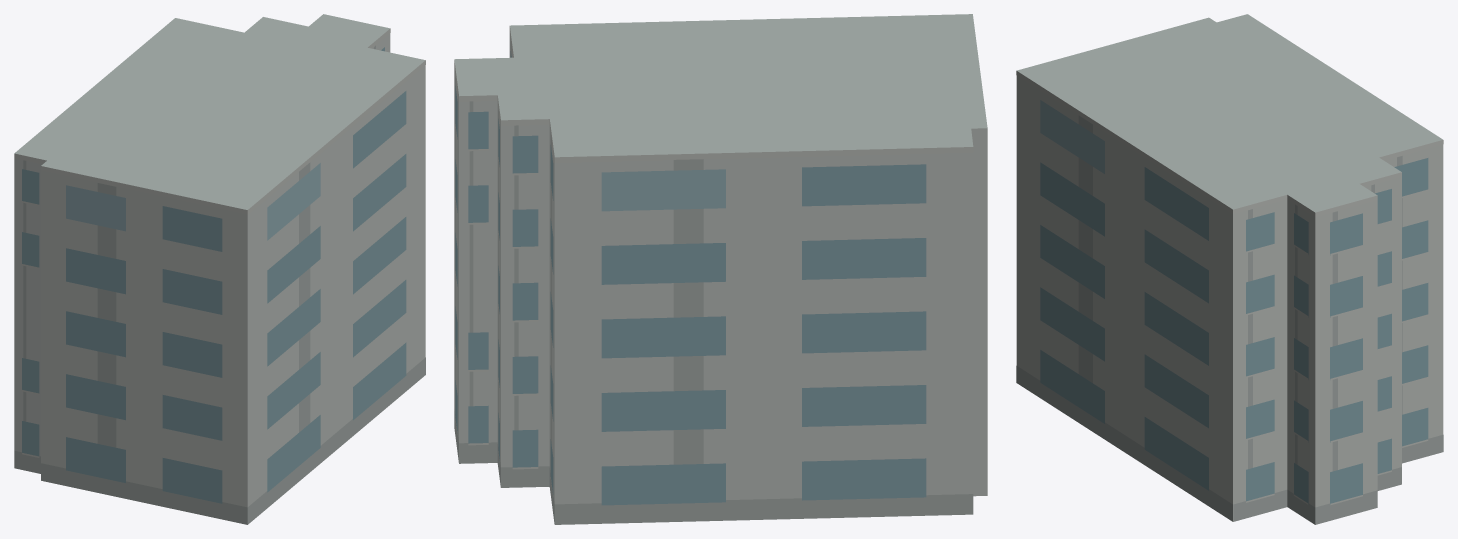
File: survey-upis-32908967.glb
3 renders of one model, left to right at view 1: azimuth 30°, elevation 25°; view 2: azimuth 150°, elevation 25°; view 3: azimuth 270°, elevation 25°, orthographic. The views are drawn at different scales.
Visible parts, largest first — view 1: survey-upis-32908967.tmp; view 2: survey-upis-32908967.tmp; view 3: survey-upis-32908967.tmp.
Boxes of the visible parts, bbox=[...] form: survey-upis-32908967.tmp: bbox=[14, 14, 425, 524]; survey-upis-32908967.tmp: bbox=[454, 14, 987, 524]; survey-upis-32908967.tmp: bbox=[1016, 14, 1443, 524].
Size of the model in its own units: 21.97 by 16.1 by 19.96.
